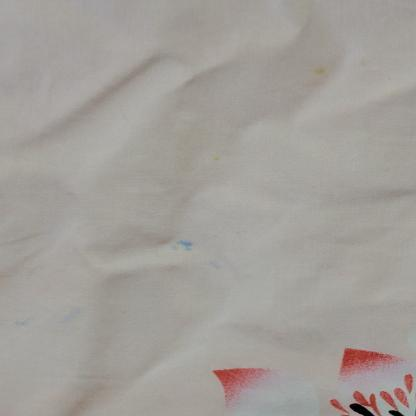spot: (169, 235, 205, 258), (300, 62, 334, 85), (207, 150, 230, 167), (56, 309, 77, 326), (10, 318, 34, 329), (353, 60, 373, 69), (210, 262, 224, 270)
